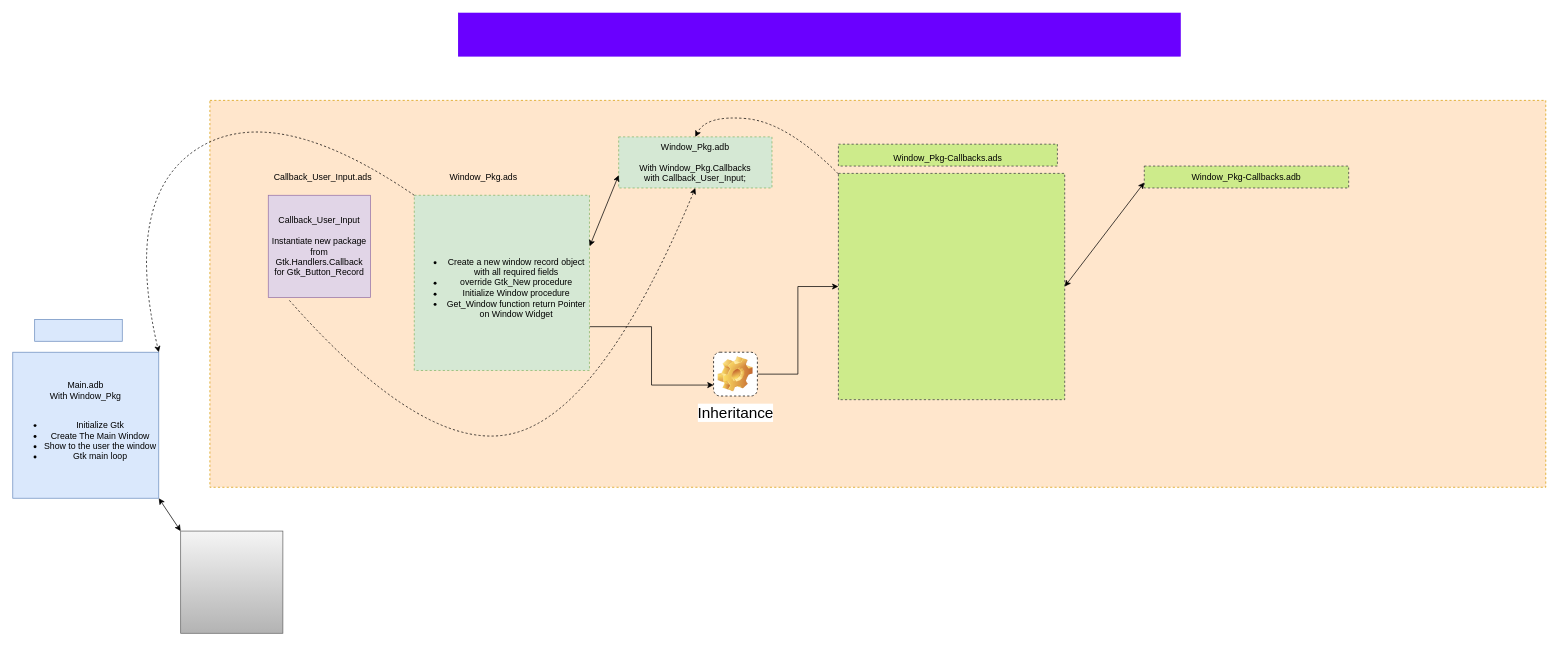
The diagram is 1559 pixels wide and 646 high, and some of its shapes have lost their labels. The shapes that lost their labels are listed below. From the top down, each one's box as (x1, y1, x2, y2) in pixels, then its label:
(458, 12, 1180, 56): SYSTEME ARCHITECTURE
(838, 173, 1065, 400): Procedure On_Btn_Clicked function On_Window_Delete_Event return Boolean
(34, 319, 122, 341): Main subprogram
(180, 530, 283, 633): User_Input.gpr
